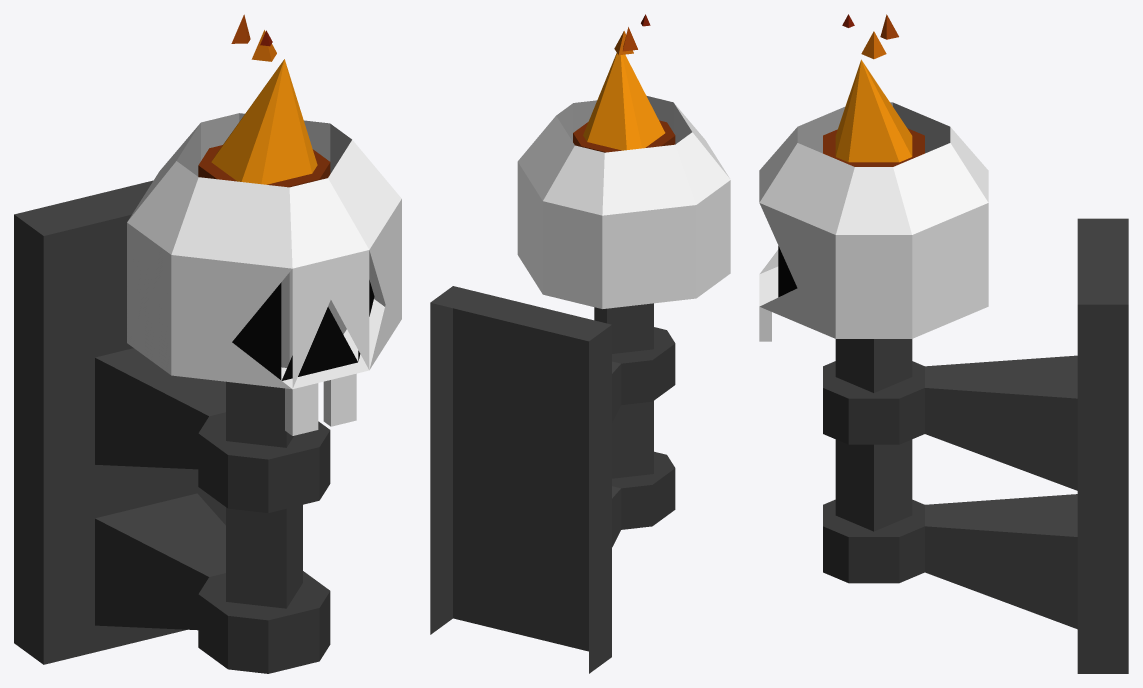
Rendered from skulltorcha3.obj.
3 renders of one model, left to right at view 1: azimuth 30°, elevation 25°; view 2: azimuth 150°, elevation 25°; view 3: azimuth 270°, elevation 25°, orthographic. The views are drawn at different scales.
Visible parts, largest first — view 1: skulltorcha3_back; view 2: skulltorcha3_back; view 3: skulltorcha3_back.
Boxes of the visible parts, box(x1,y1,x2,y2) form: skulltorcha3_back: box(14, 14, 401, 673); skulltorcha3_back: box(430, 14, 730, 673); skulltorcha3_back: box(759, 14, 1128, 673).
Bounding box in the file's own units: 0.36 × 1.06 × 0.58.
